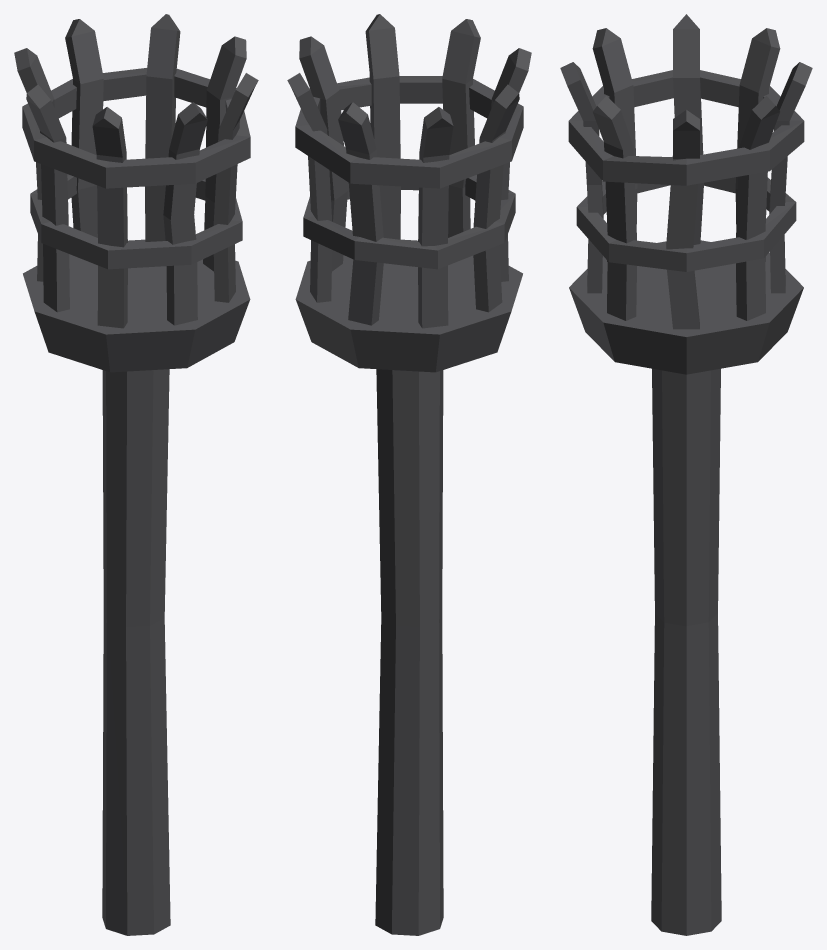
File: SM_Prop_Brazier_01.gltf
The picture shows the model from 3 angles, left to right: view 1: azimuth 30°, elevation 25°; view 2: azimuth 150°, elevation 25°; view 3: azimuth 270°, elevation 25°; orthographic projection.
Parts seen in each view (by area): view 1: SM_Prop_Brazier_01; view 2: SM_Prop_Brazier_01; view 3: SM_Prop_Brazier_01.
Part boxes in pixels (bbox=[...]): SM_Prop_Brazier_01: bbox=[14, 14, 258, 935]; SM_Prop_Brazier_01: bbox=[287, 14, 531, 935]; SM_Prop_Brazier_01: bbox=[560, 14, 812, 935].
Bounding box in the file's own units: 0.5026 × 1.89 × 0.5026.
Materials: 1 (1 with a texture image).
